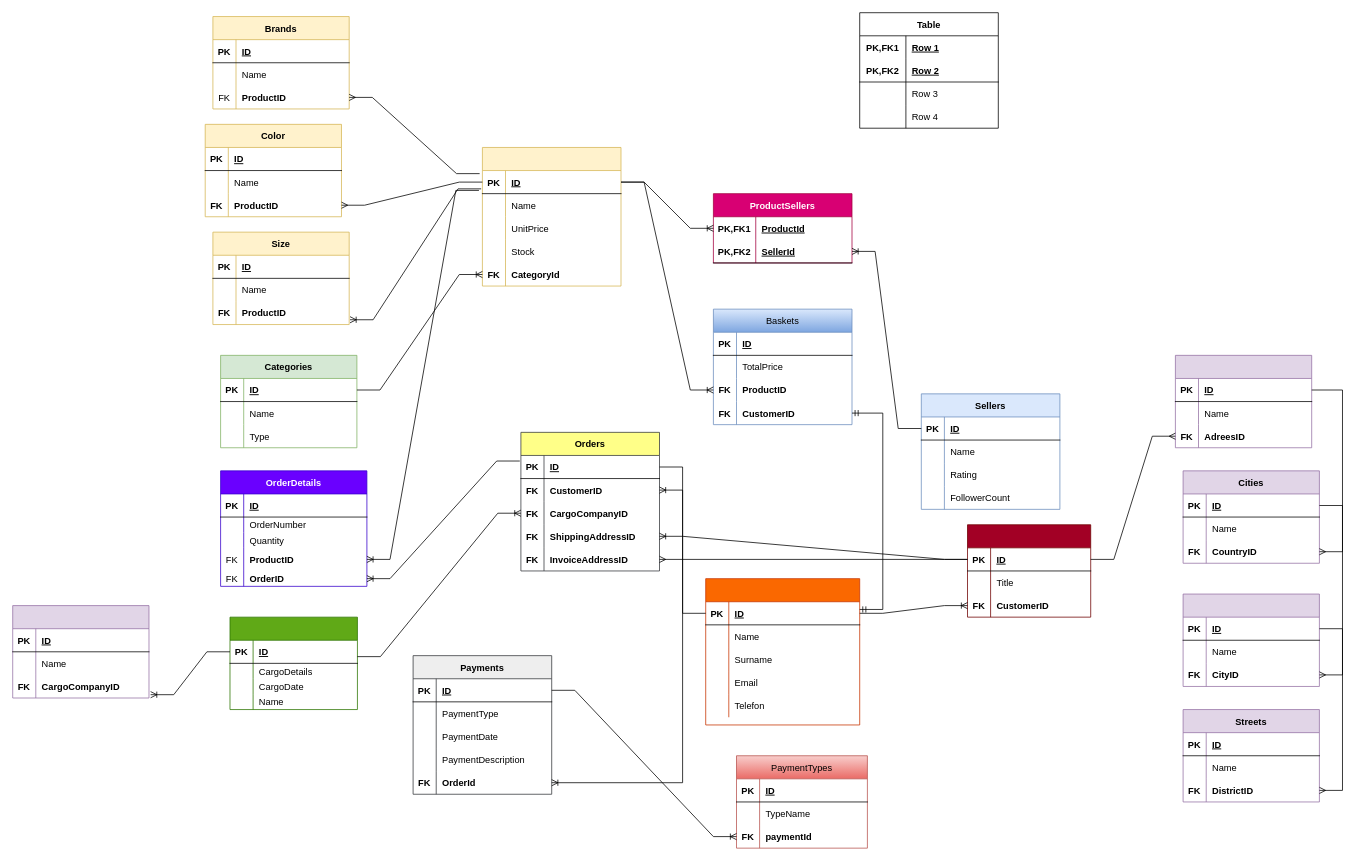
This 1355x861 diagram has some shape labels left out. The box of each missing label's shape, as (x1, y1, x2, y2) in pixels:
Addresses: (967, 524, 1091, 617)
CargoCompanies: (229, 616, 357, 710)
Countries: (1175, 355, 1312, 448)
Customers: (705, 578, 860, 725)
Districts: (1182, 593, 1319, 686)
Products: (482, 147, 621, 286)
Shippers: (12, 605, 149, 698)
